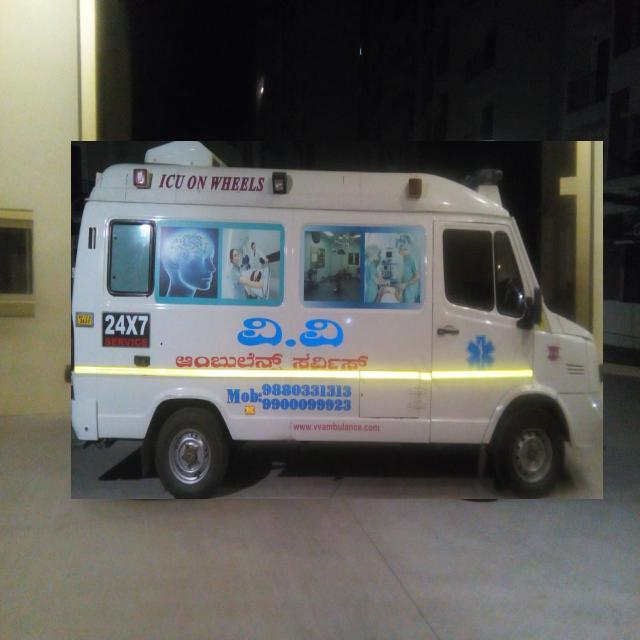emergency: (71, 142, 602, 499)
